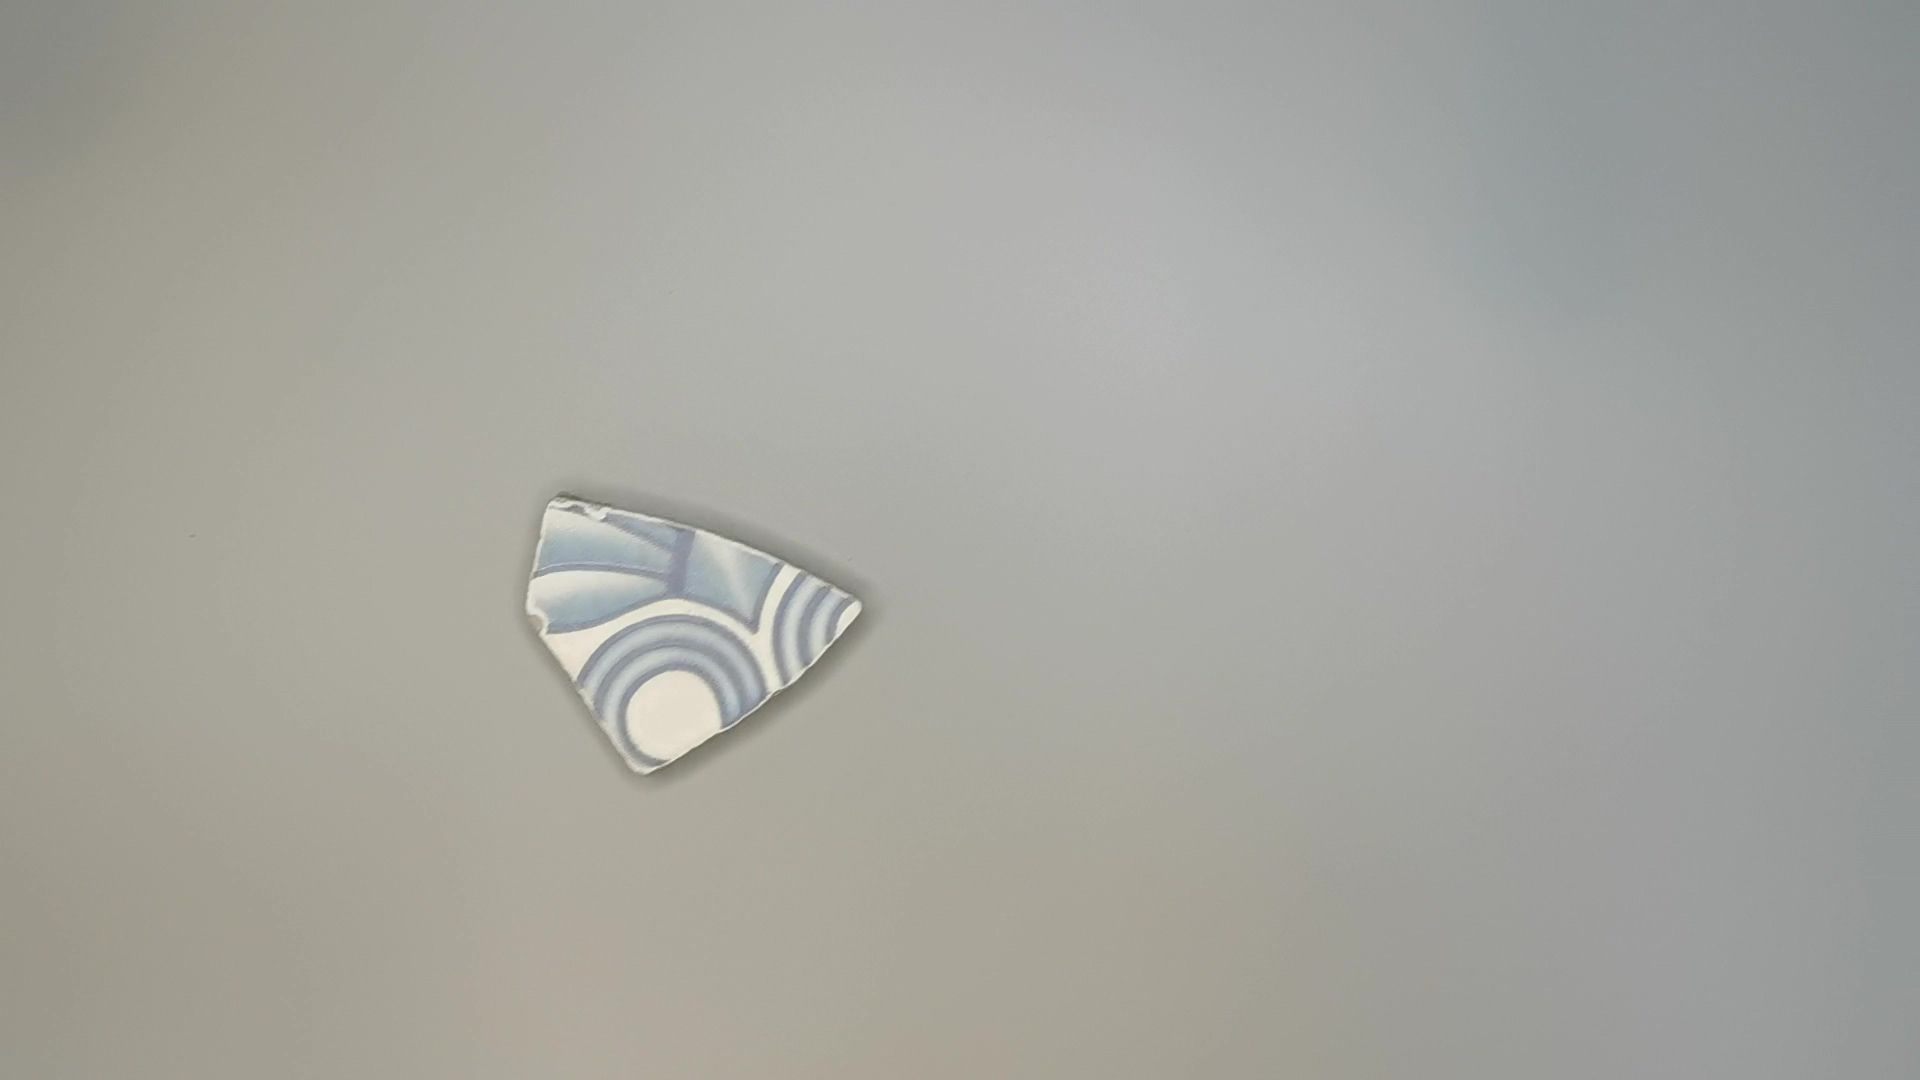ceramic: (506, 487, 874, 787)
